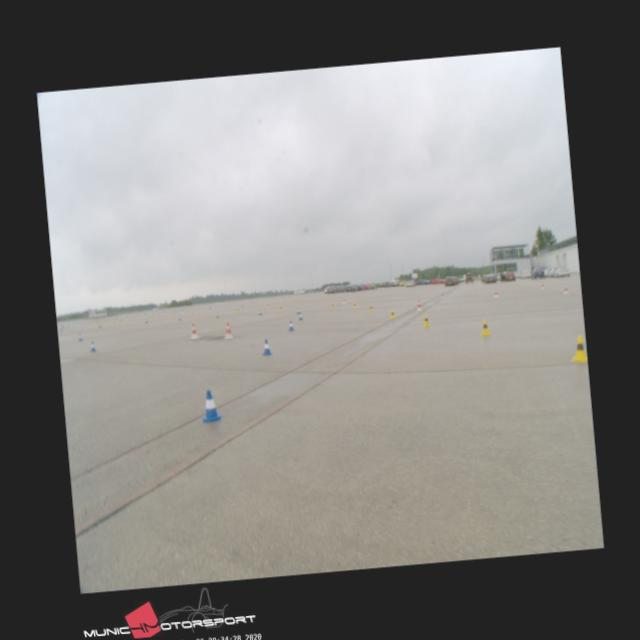blue_cone: (199, 388, 221, 423), (260, 338, 272, 354), (286, 319, 294, 331), (90, 340, 96, 351), (297, 312, 303, 320), (78, 332, 82, 341)
yellow_cone: (568, 334, 586, 362), (478, 318, 490, 334), (421, 314, 430, 326), (389, 308, 395, 318), (368, 304, 373, 310), (352, 302, 357, 308)
